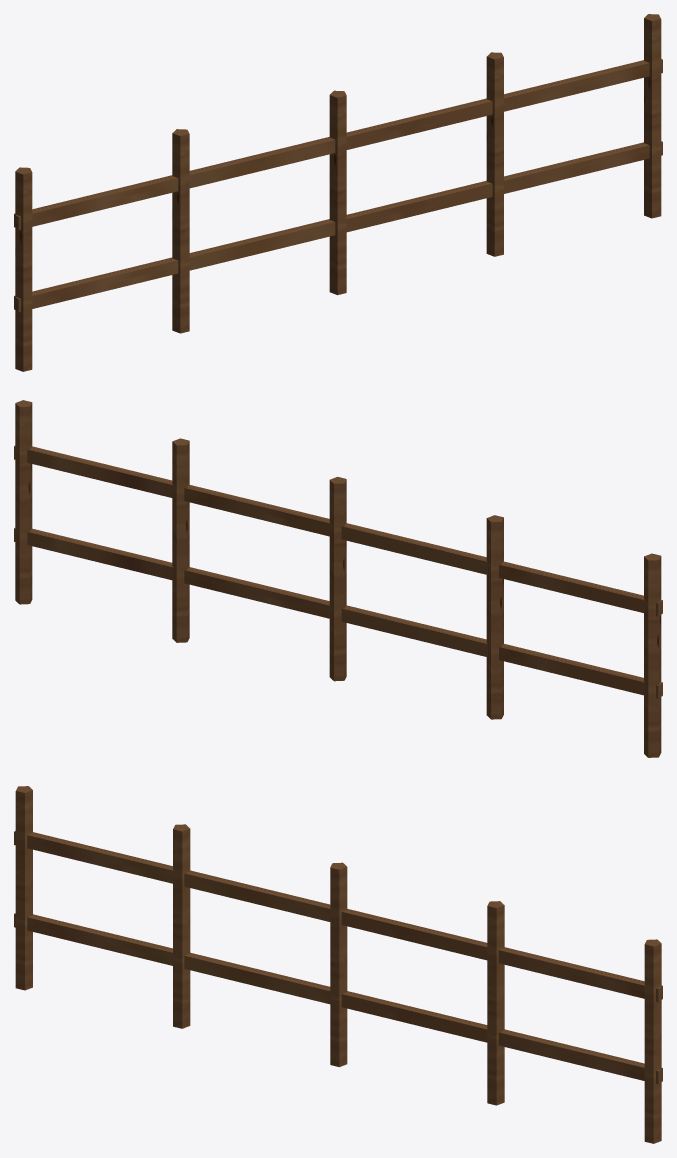
Rendered from wooden_fence_4m.glb.
The picture shows the model from 3 angles, top to bottom: view 1: azimuth 30°, elevation 25°; view 2: azimuth 150°, elevation 25°; view 3: azimuth 330°, elevation 25°; orthographic projection.
Parts seen in each view (by area): view 1: Wooden_Fence_4m; view 2: Wooden_Fence_4m; view 3: Wooden_Fence_4m.
Boxes of the visible parts, left/top/right/bottom form: Wooden_Fence_4m: left=14, top=14, right=662, bottom=371; Wooden_Fence_4m: left=14, top=400, right=662, bottom=757; Wooden_Fence_4m: left=14, top=786, right=662, bottom=1143.
Size of the model in its own units: 4.1 by 1.2 by 0.0906.
1 material, 1 textured.
